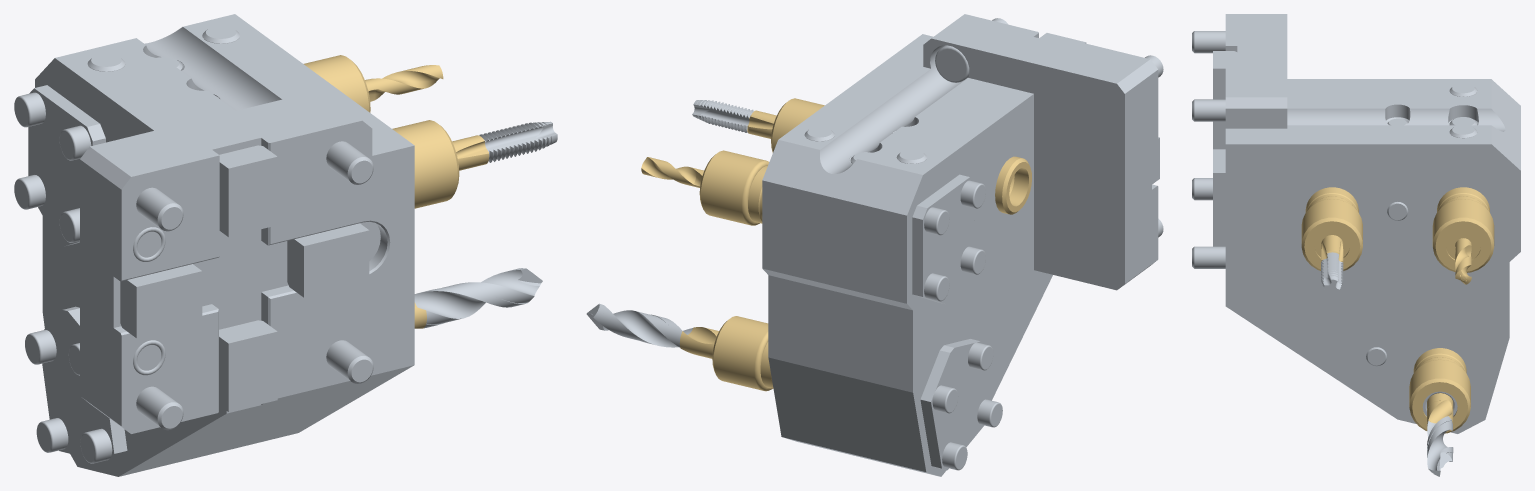
Rendered from 3X Spot-Drill-Tap v4.glb.
The picture shows the model from 3 angles, left to right: view 1: azimuth 30°, elevation 25°; view 2: azimuth 150°, elevation 25°; view 3: azimuth 270°, elevation 25°; orthographic projection. The views are drawn at different scales.
Parts seen in each view (by area): view 1: Body1, Body2:2, Body1:3, Body2, Body1:1, Body2:1, Body1:7; view 2: Body1, Body1:1, Body1:2, Body1:3, Body2:2, Body2, Body1:9, Body2:1, Body1:7; view 3: Body1, Body1:1, Body1:3, Body1:2, Body2:2, Body2, Body1:9, Body1:6, Body2:1, Body1:7, Body1:5.
Part boxes in pixels (x1,y1,x2,y2): Body1: (14, 14, 414, 476); Body2:2: (414, 268, 542, 328); Body1:3: (392, 120, 459, 208); Body2: (479, 121, 557, 162); Body1:1: (304, 55, 370, 112); Body2:1: (378, 65, 443, 97); Body1:7: (452, 135, 489, 170); Body1: (762, 14, 1163, 476); Body1:1: (699, 150, 769, 225); Body1:2: (712, 316, 773, 391); Body1:3: (771, 98, 1031, 214); Body2:2: (586, 303, 692, 347); Body2: (692, 100, 753, 133); Body1:9: (679, 327, 718, 358); Body2:1: (641, 157, 695, 185); Body1:7: (747, 110, 776, 138); Body1: (1192, 14, 1520, 433); Body1:1: (1432, 187, 1494, 272); Body1:3: (1301, 187, 1362, 270); Body1:2: (1409, 348, 1470, 433); Body2:2: (1427, 416, 1453, 476); Body2: (1321, 252, 1343, 293); Body1:9: (1427, 393, 1453, 430); Body1:6: (1446, 230, 1480, 259); Body2:1: (1455, 248, 1471, 284); Body1:7: (1321, 235, 1343, 262); Body1:5: (1315, 230, 1349, 257).
Bounding box in the file's own units: 17.28 × 12.54 × 11.75.
